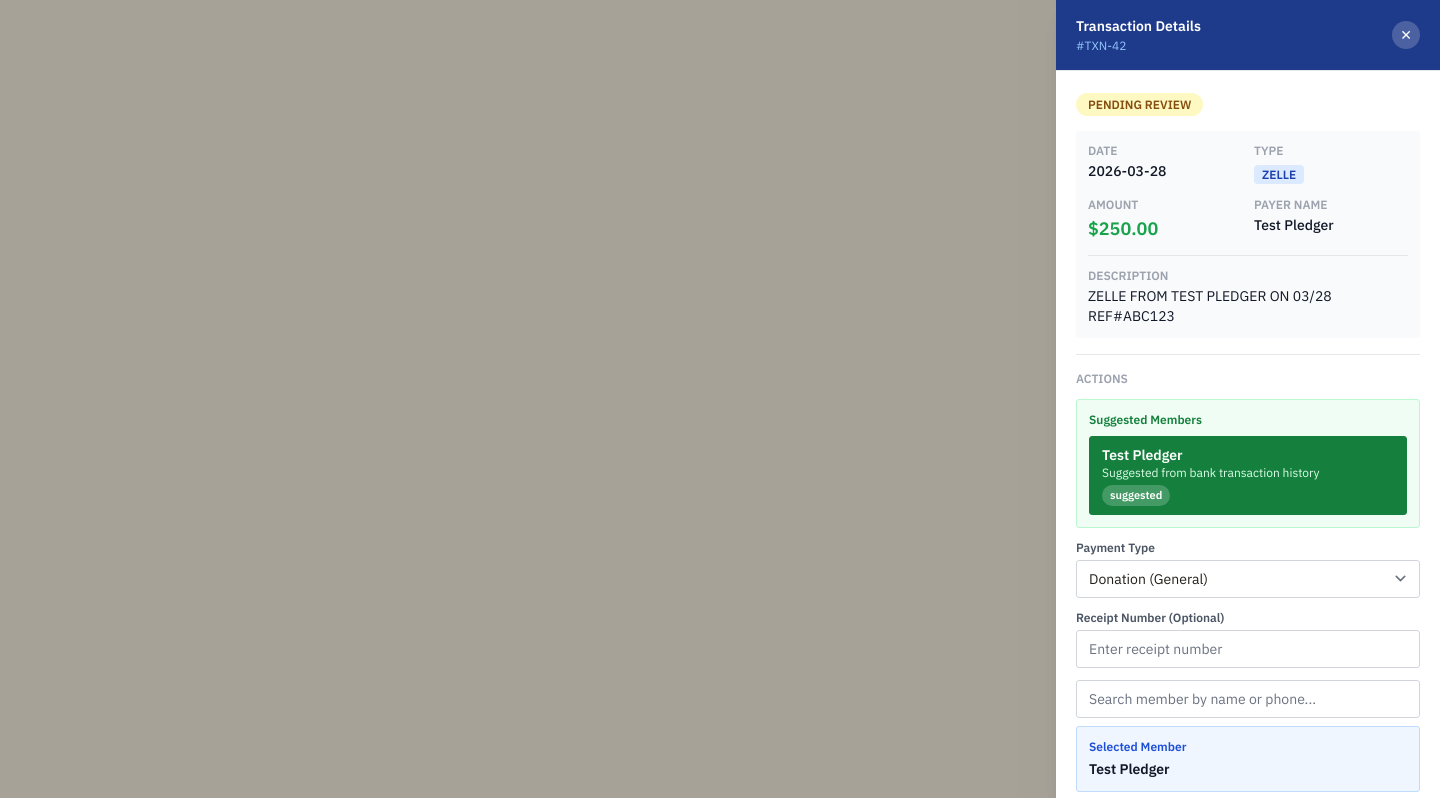
BankTransactionDetail — pledge reconciliation › shows the member's open pledge once Pledge Drive is chosen
The image size is (1440, 798).
Select "Pledge Drive (መብጸዓ)" in the dropdown labelled "Payment Type" at [1248, 578], box [1076,560,1420,598]
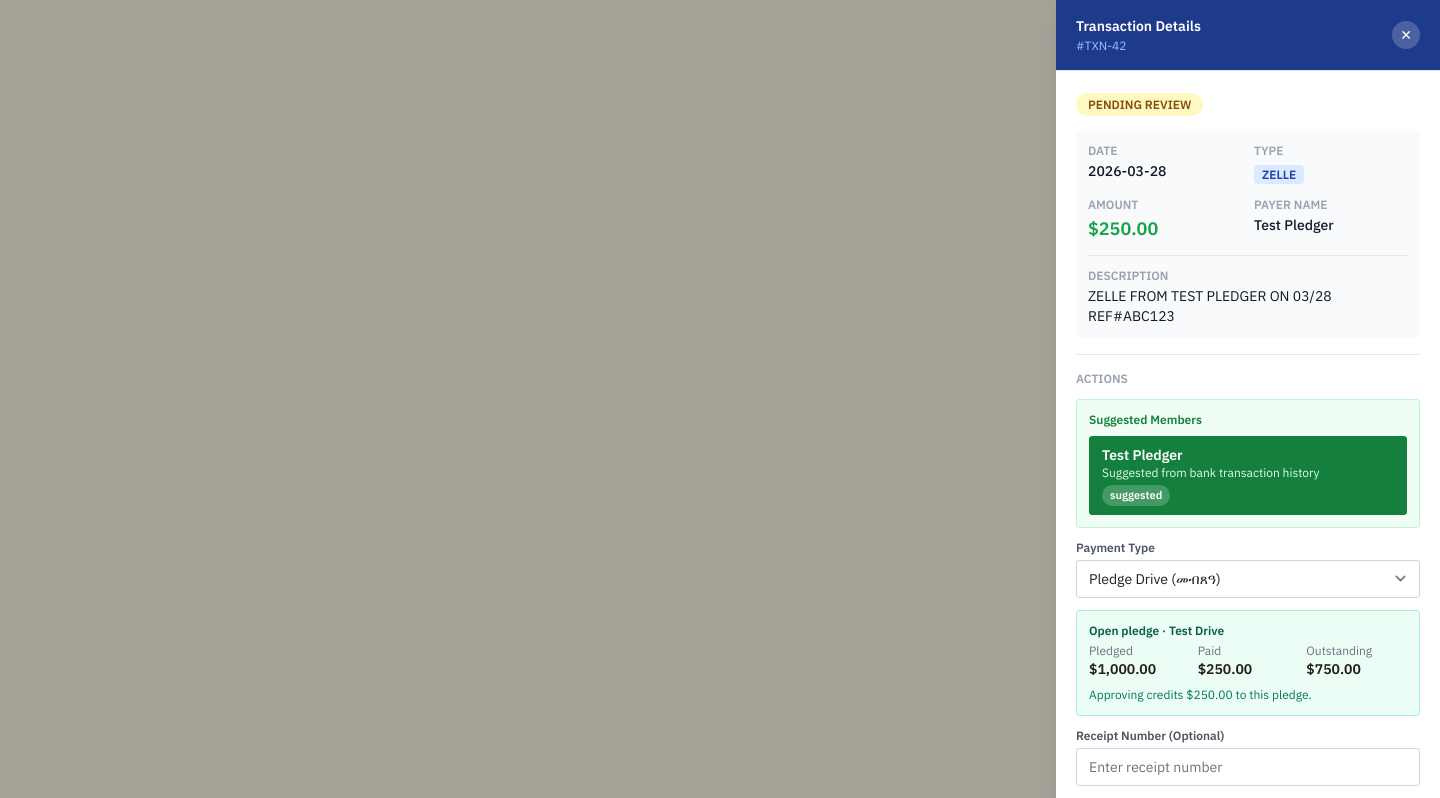
Check: the text "Open pledge · Test Drive" is shown, box [1089,622,1224,638]
Check: the text "$750.00" is shown, box [1306,660,1361,678]
